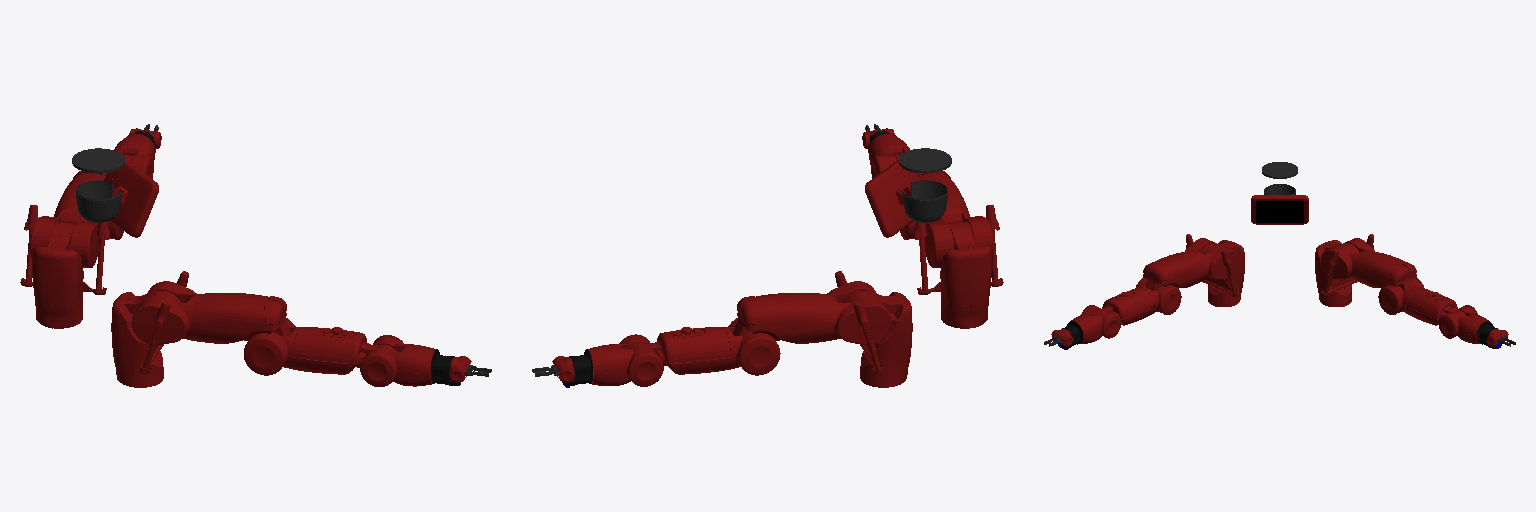
--- Render facts (derived) ---
3 views of the same robot in one strip: view 1: azimuth 30°, elevation 25°; view 2: azimuth 150°, elevation 25°; view 3: azimuth 270°, elevation 25° (orthographic).
Robot: baxter — 57 links, 56 joints (15 revolute, 4 prismatic, 37 fixed); root link base; default pose: every joint at zero.
Links seen in each view (by area): view 1: left_upper_shoulder, right_upper_elbow, right_upper_shoulder, right_upper_forearm, right_lower_forearm, right_lower_shoulder, screen, left_lower_shoulder, right_lower_elbow, head, sonar_ring, left_lower_forearm (+2 smaller); view 2: right_upper_shoulder, left_upper_elbow, left_upper_shoulder, left_upper_forearm, left_lower_forearm, left_lower_shoulder, screen, right_lower_shoulder, left_lower_elbow, head, sonar_ring, right_lower_forearm (+2 smaller); view 3: right_upper_elbow, left_upper_elbow, right_upper_shoulder, left_upper_shoulder, left_upper_forearm, right_upper_forearm, right_lower_forearm, left_lower_forearm, display, left_lower_shoulder, right_lower_shoulder, right_lower_elbow (+2 smaller).
Link boxes in pixels (box(x1,y1,x2,y2)): left_upper_shoulder: box(20, 205, 109, 328); right_upper_elbow: box(191, 293, 290, 343); right_upper_shoulder: box(111, 271, 188, 387); right_upper_forearm: box(293, 327, 396, 374); right_lower_forearm: box(360, 335, 435, 386); right_lower_shoulder: box(132, 281, 198, 344); screen: box(104, 160, 158, 237); left_lower_shoulder: box(30, 206, 99, 267); right_lower_elbow: box(244, 318, 299, 375); head: box(76, 180, 121, 222); sonar_ring: box(72, 148, 124, 173); left_lower_forearm: box(114, 134, 155, 179); right_upper_shoulder: box(914, 205, 1003, 328); left_upper_elbow: box(733, 293, 832, 343); left_upper_shoulder: box(835, 271, 912, 387); left_upper_forearm: box(627, 327, 730, 374); left_lower_forearm: box(588, 334, 663, 386); left_lower_shoulder: box(825, 281, 891, 344); screen: box(865, 160, 919, 237); right_lower_shoulder: box(924, 206, 993, 267); left_lower_elbow: box(724, 318, 780, 375); head: box(902, 180, 947, 222); sonar_ring: box(899, 148, 951, 173); right_lower_forearm: box(868, 134, 909, 178); right_upper_elbow: box(1143, 251, 1206, 290); left_upper_elbow: box(1353, 251, 1416, 290); right_upper_shoulder: box(1186, 234, 1244, 306); left_upper_shoulder: box(1315, 234, 1373, 306); left_upper_forearm: box(1406, 287, 1466, 325); right_upper_forearm: box(1091, 287, 1153, 325); right_lower_forearm: box(1071, 305, 1120, 343); left_lower_forearm: box(1438, 305, 1488, 343); display: box(1256, 201, 1303, 222); left_lower_shoulder: box(1321, 238, 1374, 280); right_lower_shoulder: box(1185, 238, 1238, 280); right_lower_elbow: box(1136, 277, 1181, 314).
Bounding box of the posed robot: 0.9298 × 2.18 × 0.6706 m (x, y, z).
Meshes: 14 distinct files referenced, 26 mesh visuals loaded (12 Collada DAE); not drawn: 2 (reference not matched to a file when rendering).

The robot description file, URDF, robot "baxter":
<?xml version="1.0" ?>
<!-- =================================================================================== -->
<!-- |    This document was autogenerated by xacro from baxter.urdf.xacro              | -->
<!-- |    EDITING THIS FILE BY HAND IS NOT RECOMMENDED                                 | -->
<!-- =================================================================================== -->
<robot name="baxter" xmlns:xacro="http://www.ros.org/wiki/xacro">
  <link name="base">
  </link>
  <link name="torso">
    <visual>
      <origin rpy="0 0 0" xyz="0 0 0"/>
      <geometry>
        <mesh filename="package://baxter_description/meshes/torso/base_link.DAE"/>
      </geometry>
      <material name="darkgray">
        <color rgba=".2 .2 .2 1"/>
      </material>
    </visual>
    <collision>
      <origin rpy="0 0 0" xyz="0 0 0"/>
      <geometry>
        <mesh filename="package://baxter_description/meshes/torso/base_link_collision.DAE"/>
      </geometry>
    </collision>
    <inertial>
      <origin rpy="0 0 0" xyz="0.000000 0.000000 0.000000"/>
      <mass value="35.336455"/>
      <inertia ixx="1.849155" ixy="-0.000354" ixz="-0.154188" iyy="1.662671" iyz="0.003292" izz="0.802239"/>
    </inertial>
  </link>
  <link name="left_torso_itb">
    <inertial>
      <origin rpy="0 0 0" xyz="0.000000 0.000000 0.000000"/>
      <mass value="0.0001"/>
      <inertia ixx="1e-08" ixy="0" ixz="0" iyy="1e-08" iyz="0" izz="1e-08"/>
    </inertial>
  </link>
  <link name="right_torso_itb">
    <inertial>
      <origin rpy="0 0 0" xyz="0.000000 0.000000 0.000000"/>
      <mass value="0.0001"/>
      <inertia ixx="1e-08" ixy="0" ixz="0" iyy="1e-08" iyz="0" izz="1e-08"/>
    </inertial>
  </link>
  <link name="head">
    <visual>
      <origin rpy="0 0 0" xyz="0 0 .00953"/>
      <geometry>
        <mesh filename="package://baxter_description/meshes/head/H0.DAE"/>
      </geometry>
      <material name="darkgray">
        <color rgba=".2 .2 .2 1"/>
      </material>
    </visual>
    <collision>
      <origin rpy="0 0 0" xyz="0.0 0 0.0"/>
      <geometry>
        <sphere radius="0.001"/>
      </geometry>
    </collision>
    <inertial>
      <origin rpy="0 0 0" xyz="0 0 0"/>
      <mass value="0.547767"/>
      <inertia ixx="0.004641" ixy="0.000159" ixz="0.000242" iyy="0.003295" iyz="-0.001324" izz="0.003415"/>
    </inertial>
  </link>
  <link name="sonar_ring">
    <visual>
      <origin rpy="0 0 0" xyz="-.0347 0 .00953"/>
      <geometry>
        <cylinder length="0.01" radius="0.085"/>
      </geometry>
      <material name="darkgray">
        <color rgba=".2 .2 .2 1"/>
      </material>
    </visual>
    <collision>
      <origin rpy="0 0 0" xyz="0.0 0 0.0"/>
      <geometry>
        <sphere radius="0.001"/>
      </geometry>
    </collision>
    <inertial>
      <origin rpy="0 0 0" xyz="0 0 0"/>
      <mass value="0.0001"/>
      <inertia ixx="1e-08" ixy="0" ixz="0" iyy="1e-08" iyz="0" izz="1e-08"/>
    </inertial>
  </link>
  <link name="screen">
    <visual>
      <origin rpy="0 -1.57079632679 0" xyz="0 -.00953 -.0347"/>
      <geometry>
        <mesh filename="package://baxter_description/meshes/head/H1.DAE"/>
      </geometry>
      <material name="darkred">
        <color rgba=".5 .1 .1 1"/>
      </material>
    </visual>
    <collision>
      <origin rpy="0 0 0" xyz="0.0 0 0.0"/>
      <geometry>
        <sphere radius="0.001"/>
      </geometry>
    </collision>
    <inertial>
      <origin rpy="0 0 0" xyz="0 0 0"/>
      <mass value="0.440171"/>
      <inertia ixx="0.004006" ixy="0.000230" ixz="0.000002" iyy="0.002800" iyz="0.000029" izz="0.001509"/>
    </inertial>
  </link>
  <link name="display">
    <visual>
      <origin rpy="0.2617993877991494 0 0" xyz="0 0 0"/>
      <geometry>
        <box size="0.218 0.16 0.001"/>
      </geometry>
      <material name="black">
        <color rgba="0 0 0 1"/>
      </material>
    </visual>
    <inertial>
      <origin rpy="0 0 0" xyz="0 0 0"/>
      <mass value="0.0001"/>
      <inertia ixx="1e-08" ixy="0" ixz="0" iyy="1e-08" iyz="0" izz="1e-08"/>
    </inertial>
  </link>
  <link name="head_camera">
    <inertial>
      <origin rpy="0 0 0" xyz="0 0 0"/>
      <mass value="0.0001"/>
      <inertia ixx="1e-08" ixy="0" ixz="0" iyy="1e-08" iyz="0" izz="1e-08"/>
    </inertial>
  </link>
  <link name="dummyhead1">
    <inertial>
      <origin rpy="0 0 0" xyz="0 0 0"/>
      <mass value="0.0001"/>
      <inertia ixx="1e-08" ixy="0" ixz="0" iyy="1e-08" iyz="0" izz="1e-08"/>
    </inertial>
  </link>
  <link name="collision_head_link_1">
    <visual>
      <origin rpy="0 0 0" xyz="0 0 0"/>
      <geometry>
        <sphere radius="0.001"/>
      </geometry>
      <material name="red">
        <color rgba="0.8 0.3 0.3 0.3"/>
      </material>
    </visual>
    <collision>
      <origin rpy="0 0 0.0" xyz="-0.07 -0.04 0.0"/>
      <geometry>
        <sphere radius="0.22"/>
      </geometry>
    </collision>
    <inertial>
      <origin rpy="0 0 0" xyz="0 0 0"/>
      <mass value="0.0001"/>
      <inertia ixx="1e-08" ixy="0" ixz="0" iyy="1e-08" iyz="0" izz="1e-08"/>
    </inertial>
  </link>
  <link name="collision_head_link_2">
    <visual>
      <origin rpy="0 0 0" xyz="0 0 0"/>
      <geometry>
        <sphere radius="0.001"/>
      </geometry>
      <material name="red">
        <color rgba="0.8 0.3 0.3 0.3"/>
      </material>
    </visual>
    <collision>
      <origin rpy="0 0 0" xyz="-0.07 0.04 0.00"/>
      <geometry>
        <sphere radius="0.22"/>
      </geometry>
    </collision>
    <inertial>
      <origin rpy="0 0 0" xyz="0 0 0"/>
      <mass value="0.0001"/>
      <inertia ixx="1e-08" ixy="0" ixz="0" iyy="1e-08" iyz="0" izz="1e-08"/>
    </inertial>
  </link>
  <joint name="collision_head_1" type="fixed">
    <origin rpy="0 0 0" xyz="0.11 0 0.75"/>
    <parent link="base"/>
    <child link="collision_head_link_1"/>
  </joint>
  <joint name="collision_head_2" type="fixed">
    <origin rpy="0 0 0" xyz="0.11 0 0.75"/>
    <parent link="base"/>
    <child link="collision_head_link_2"/>
  </joint>
  <joint name="dummy" type="fixed">
    <origin rpy="0 0 0" xyz="0 0 0"/>
    <parent link="head"/>
    <child link="dummyhead1"/>
  </joint>
  <joint name="torso_t0" type="fixed">
    <origin rpy="0 0 0" xyz="0 0 0"/>
    <parent link="base"/>
    <child link="torso"/>
    <limit effort="50000" lower="-3.01" upper="3.01" velocity="10000"/>
  </joint>
  <joint name="left_torso_itb_fixed" type="fixed">
    <origin rpy="-1.57079632679 3.1415 0" xyz="-0.08897 0.15593 0.389125"/>
    <parent link="torso"/>
    <child link="left_torso_itb"/>
  </joint>
  <joint name="right_torso_itb_fixed" type="fixed">
    <origin rpy="1.57079632679 0 0" xyz="-0.08897 -0.15593 0.389125"/>
    <parent link="torso"/>
    <child link="right_torso_itb"/>
  </joint>
  <joint name="head_pan" type="revolute">
    <origin rpy="0 0 0" xyz="0.06 0 0.686"/>
    <axis xyz="0 0 1"/>
    <parent link="torso"/>
    <child link="head"/>
    <limit effort="50000" lower="-1.3963" upper="1.3963" velocity="10000"/>
    <dynamics damping="0.7" friction="0.0"/>
  </joint>
  <joint name="head_nod" type="fixed">
    <origin rpy="1.75057 0 1.57079632679" xyz=".1227 0 0"/>
    <parent link="head"/>
    <child link="screen"/>
  </joint>
  <joint name="head_camera" type="fixed">
    <origin rpy="1.75057 0 1.57079632679" xyz="0.12839 0 0.06368"/>
    <parent link="head"/>
    <child link="head_camera"/>
  </joint>
  <joint name="display_joint" type="fixed">
    <origin rpy="0 0 0" xyz="0.0 -0.016 0.0"/>
    <parent link="screen"/>
    <child link="display"/>
  </joint>
  <joint name="sonar_s0" type="fixed">
    <origin rpy="0 0 0" xyz="0.0947 0 .817"/>
    <axis xyz="0 0 1"/>
    <parent link="torso"/>
    <child link="sonar_ring"/>
  </joint>
  <link name="right_arm_mount">
    <!-- all defaults -->
    <inertial>
      <origin rpy="0 0 0" xyz="0 0 0"/>
      <mass value="0.0001"/>
      <inertia ixx="1e-08" ixy="0" ixz="0" iyy="1e-08" iyz="0" izz="1e-08"/>
    </inertial>
  </link>
  <link name="right_upper_shoulder">
    <visual>
      <origin rpy="0 0 0" xyz="0 0 0"/>
      <geometry>
        <mesh filename="package://baxter_description/meshes/upper_shoulder/S0.DAE"/>
      </geometry>
      <material name="darkred">
        <color rgba=".5 .1 .1 1"/>
      </material>
    </visual>
    <collision>
      <origin rpy="0 0 0" xyz="0 0 0.1361"/>
      <geometry>
        <cylinder length="0.2722" radius="0.06"/>
      </geometry>
    </collision>
    <inertial>
      <origin rpy="0 0 0" xyz="0.01783 0.00086 0.19127"/>
      <mass value="5.70044"/>
      <inertia ixx="0.04709102262" ixy="0.00012787556" ixz="0.00614870039" iyy="0.03766976455" iyz="0.00078086899" izz="0.03595988478"/>
    </inertial>
  </link>
  <link name="right_lower_shoulder">
    <visual>
      <origin rpy="0 0 0" xyz="0 0 0"/>
      <geometry>
        <mesh filename="package://baxter_description/meshes/lower_shoulder/S1.DAE"/>
      </geometry>
      <material name="darkred">
        <color rgba=".5 .1 .1 1"/>
      </material>
    </visual>
    <collision>
      <origin rpy="0 0 0" xyz="0 0 0"/>
      <geometry>
        <cylinder length="0.12" radius="0.06"/>
      </geometry>
    </collision>
    <inertial>
      <origin rpy="0 0 0" xyz="0.06845 0.00269 -0.00529"/>
      <mass value="3.22698"/>
      <inertia ixx="0.01175209419" ixy="-0.00030096398" ixz="0.00207675762" iyy="0.0278859752" iyz="-0.00018821993" izz="0.02078749298"/>
    </inertial>
  </link>
  <link name="right_upper_elbow">
    <visual>
      <origin rpy="0 0 0" xyz="0 0 0"/>
      <geometry>
        <mesh filename="package://baxter_description/meshes/upper_elbow/E0.DAE"/>
      </geometry>
      <material name="darkred">
        <color rgba=".5 .1 .1 1"/>
      </material>
    </visual>
    <collision>
      <origin rpy="0 0 0" xyz="0 0 -0.0535"/>
      <geometry>
        <cylinder length="0.107" radius="0.06"/>
      </geometry>
    </collision>
    <inertial>
      <origin rpy="0 0 0" xyz="-0.00276 0.00132 0.18086"/>
      <mass value="4.31272"/>
      <inertia ixx="0.02661733557" ixy="0.00029270634" ixz="0.00392189887" iyy="0.02844355207" iyz="0.0010838933" izz="0.01248008322"/>
    </inertial>
  </link>
  <link name="right_upper_elbow_visual">
    <collision>
      <origin rpy="0 0 0" xyz="0 0 0.1365"/>
      <geometry>
        <cylinder length="0.273" radius="0.06"/>
      </geometry>
    </collision>
    <inertial>
      <origin rpy="0 0 0" xyz="0 0 0"/>
      <mass value="0.0001"/>
      <inertia ixx="1e-08" ixy="0" ixz="0" iyy="1e-08" iyz="0" izz="1e-08"/>
    </inertial>
  </link>
  <link name="right_lower_elbow">
    <visual>
      <origin rpy="0 0 0" xyz="0 0 0"/>
      <geometry>
        <mesh filename="package://baxter_description/meshes/lower_elbow/E1.DAE"/>
      </geometry>
      <material name="darkred">
        <color rgba=".5 .1 .1 1"/>
      </material>
    </visual>
    <collision>
      <origin rpy="0 0 0" xyz="0.0 0.0 0.0"/>
      <geometry>
        <cylinder length="0.10" radius="0.06"/>
      </geometry>
    </collision>
    <inertial>
      <origin rpy="0 0 0" xyz="0.02611 0.00159 -0.01117"/>
      <mass value="2.07206"/>
      <inertia ixx="0.00711582686" ixy="0.00036036173" ixz="0.0007459496" iyy="0.01318227876" iyz="-0.00019663418" izz="0.00926852064"/>
    </inertial>
  </link>
  <link name="right_upper_forearm">
    <visual>
      <origin rpy="0 0 0" xyz="0 0 0"/>
      <geometry>
        <mesh filename="package://baxter_description/meshes/upper_forearm/W0.DAE"/>
      </geometry>
      <material name="darkred">
        <color rgba=".5 .1 .1 1"/>
      </material>
    </visual>
    <collision>
      <origin rpy="0 0 0" xyz="0 0 -0.044"/>
      <geometry>
        <cylinder length="0.088" radius="0.06"/>
      </geometry>
    </collision>
    <inertial>
      <origin rpy="0 0 0" xyz="-0.00168 0.0046 0.13952"/>
      <mass value="2.24665"/>
      <inertia ixx="0.01667742825" ixy="0.00018403705" ixz="0.00018657629" iyy="0.01675457264" iyz="-0.00064732352" izz="0.0037463115"/>
    </inertial>
  </link>
  <link name="right_upper_forearm_visual">
    <collision>
      <origin rpy="0 0 0" xyz="0 0 0.136"/>
      <geometry>
        <cylinder length="0.272" radius="0.06"/>
      </geometry>
    </collision>
    <inertial>
      <origin rpy="0 0 0" xyz="0 0 0"/>
      <mass value="0.0001"/>
      <inertia ixx="1e-08" ixy="0" ixz="0" iyy="1e-08" iyz="0" izz="1e-08"/>
    </inertial>
  </link>
  <link name="right_arm_itb">
    <inertial>
      <origin rpy="0 0 0" xyz="0.000000 0.000000 0.000000"/>
      <mass value="0.0001"/>
      <inertia ixx="1e-08" ixy="0" ixz="0" iyy="1e-08" iyz="0" izz="1e-08"/>
    </inertial>
  </link>
  <link name="right_lower_forearm">
    <visual>
      <origin rpy="0 0 0" xyz="0 0 0"/>
      <geometry>
        <mesh filename="package://baxter_description/meshes/lower_forearm/W1.DAE"/>
      </geometry>
      <material name="darkred">
        <color rgba=".5 .1 .1 1"/>
      </material>
    </visual>
    <collision>
      <origin rpy="0 0 0" xyz="0 0 0"/>
      <geometry>
        <cylinder length="0.10" radius="0.06"/>
      </geometry>
    </collision>
    <inertial>
      <origin rpy="0 0 0" xyz="0.06041 0.00697 0.006"/>
      <mass value="1.60979"/>
      <inertia ixx="0.00387607152" ixy="-0.00044384784" ixz="-0.00021115038" iyy="0.00700537914" iyz="0.00015348067" izz="0.0055275524"/>
    </inertial>
  </link>
  <link name="right_wrist">
    <visual>
      <origin rpy="0 0 0" xyz="0 0 0"/>
      <geometry>
        <mesh filename="package://baxter_description/meshes/wrist/W2.DAE"/>
      </geometry>
      <material name="lightgrey">
        <color rgba=".1 .1 .1 1"/>
      </material>
    </visual>
    <collision>
      <origin rpy="0 0 0" xyz="0 0 0"/>
      <geometry>
        <cylinder length="0.165" radius="0.06"/>
      </geometry>
    </collision>
    <inertial>
      <origin rpy="0 0 0" xyz="0.00198 0.00125 0.01855"/>
      <mass value="0.35093"/>
      <inertia ixx="0.00025289155" ixy="0.00000575311" ixz="-0.00000159345" iyy="0.0002688601" iyz="-0.00000519818" izz="0.0003074118"/>
    </inertial>
  </link>
  <link name="right_hand">
    <collision>
      <origin rpy="0 0 0" xyz="0 0 -0.0232"/>
      <geometry>
        <cylinder length="0.0464" radius="0.04"/>
      </geometry>
    </collision>
    <inertial>
      <origin rpy="0 0 0" xyz="0.01093 0.00042 -0.01532"/>
      <mass value="0.19125"/>
      <inertia ixx="0.00017588" ixy="0.00000147073" ixz="0.0000243633" iyy="0.00021166377" iyz="0.00000172689" izz="0.00023745397"/>
    </inertial>
  </link>
  <link name="right_hand_camera">
    <visual>
      <origin rpy="0 0 0" xyz="0 0 0"/>
      <geometry>
        <cylinder length="0.01" radius="0.02"/>
      </geometry>
      <material name="blue">
        <color rgba="0 0 1 0.8"/>
      </material>
    </visual>
    <inertial>
      <origin rpy="0 0 0" xyz="0 0 0"/>
      <mass value="0.0001"/>
      <inertia ixx="1e-08" ixy="0" ixz="0" iyy="1e-08" iyz="0" izz="1e-08"/>
    </inertial>
  </link>
  <link name="right_hand_camera_axis">
    <inertial>
      <origin rpy="0 0 0" xyz="0 0 0"/>
      <mass value="0.0001"/>
      <inertia ixx="1e-08" ixy="0" ixz="0" iyy="1e-08" iyz="0" izz="1e-08"/>
    </inertial>
  </link>
  <link name="right_hand_range">
    <visual>
      <origin rpy="0 0 0" xyz="0 0 0"/>
      <geometry>
        <box size="0.005 .02 .005"/>
      </geometry>
      <material name="blue">
        <color rgba="0 0 1 0.8"/>
      </material>
    </visual>
    <inertial>
      <origin rpy="0 0 0" xyz="0 0 0"/>
      <mass value="0.0001"/>
      <inertia ixx="1e-08" ixy="0" ixz="0" iyy="1e-08" iyz="0" izz="1e-08"/>
    </inertial>
  </link>
  <link name="right_hand_accelerometer">
    <visual>
      <origin rpy="0 0 0" xyz="0 0 0"/>
      <geometry>
        <box size="0.01 0.01 0.01"/>
      </geometry>
      <material name="black">
        <color rgba="0 0 0 1"/>
      </material>
    </visual>
    <inertial>
      <origin rpy="0 0 0" xyz="0.000000 0.000000 0.000000"/>
      <mass value="0.0001"/>
      <inertia ixx="1e-08" ixy="0" ixz="0" iyy="1e-08" iyz="0" izz="1e-08"/>
    </inertial>
  </link>
  <joint name="right_torso_arm_mount" type="fixed">
    <origin rpy="0 0 -0.7854" xyz="0.024645 -0.219645 0.118588"/>
    <parent link="torso"/>
    <child link="right_arm_mount"/>
  </joint>
  <joint name="right_s0" type="revolute">
    <origin rpy="0 0 0" xyz="0.055695 0 0.011038"/>
    <axis xyz="0 0 1"/>
    <parent link="right_arm_mount"/>
    <child link="right_upper_shoulder"/>
    <limit effort="50.0" lower="-1.70167993878" upper="1.70167993878" velocity="1.5"/>
    <dynamics damping="0.7" friction="0.0"/>
  </joint>
  <joint name="right_s1" type="revolute">
    <origin rpy="-1.57079632679 0 0" xyz="0.069 0 0.27035"/>
    <axis xyz="0 0 1"/>
    <parent link="right_upper_shoulder"/>
    <child link="right_lower_shoulder"/>
    <limit effort="50.0" lower="-2.147" upper="1.047" velocity="1.5"/>
    <dynamics damping="0.7" friction="0.0"/>
  </joint>
  <joint name="right_e0" type="revolute">
    <origin rpy="1.57079632679 0 1.57079632679" xyz="0.102 0 0"/>
    <axis xyz="0 0 1"/>
    <parent link="right_lower_shoulder"/>
    <child link="right_upper_elbow"/>
    <limit effort="50.0" lower="-3.05417993878" upper="3.05417993878" velocity="1.5"/>
    <dynamics damping="0.7" friction="0.0"/>
  </joint>
  <joint name="right_e0_fixed" type="fixed">
    <origin rpy="1.57079632679 0 1.57079632679" xyz="0.107 0 0"/>
    <axis xyz="0 0 1"/>
    <parent link="right_lower_shoulder"/>
    <child link="right_upper_elbow_visual"/>
  </joint>
  <joint name="right_e1" type="revolute">
    <origin rpy="-1.57079632679 -1.57079632679 0" xyz="0.069 0 0.26242"/>
    <axis xyz="0 0 1"/>
    <parent link="right_upper_elbow"/>
    <child link="right_lower_elbow"/>
    <limit effort="50.0" lower="-0.05" upper="2.618" velocity="1.5"/>
    <dynamics damping="0.7" friction="0.0"/>
  </joint>
  <joint name="right_w0" type="revolute">
    <origin rpy="1.57079632679 0 1.57079632679" xyz="0.10359 0 0"/>
    <axis xyz="0 0 1"/>
    <parent link="right_lower_elbow"/>
    <child link="right_upper_forearm"/>
    <limit effort="15.0" lower="-3.059" upper="3.059" velocity="4.0"/>
    <dynamics damping="0.7" friction="0.0"/>
  </joint>
  <joint name="right_w0_fixed" type="fixed">
    <origin rpy="1.57079632679 0 1.57079632679" xyz="0.088 0 0"/>
    <axis xyz="0 0 1"/>
    <parent link="right_lower_elbow"/>
    <child link="right_upper_forearm_visual"/>
  </joint>
  <joint name="right_w0_to_itb_fixed" type="fixed">
    <origin rpy="-1.57079632679 0 1.57079632679" xyz="-0.0565 0 0.12"/>
    <axis xyz="0 0 1"/>
    <parent link="right_upper_forearm"/>
    <child link="right_arm_itb"/>
  </joint>
  <joint name="right_w1" type="revolute">
    <origin rpy="-1.57079632679 -1.57079632679 0" xyz="0.01 0 0.2707"/>
    <axis xyz="0 0 1"/>
    <parent link="right_upper_forearm"/>
    <child link="right_lower_forearm"/>
    <limit effort="15.0" lower="-1.57079632679" upper="2.094" velocity="4.0"/>
    <dynamics damping="0.7" friction="0.0"/>
  </joint>
  <joint name="right_w2" type="revolute">
    <origin rpy="1.57079632679 0 1.57079632679" xyz="0.115975 0 0"/>
    <axis xyz="0 0 1"/>
    <parent link="right_lower_forearm"/>
    <child link="right_wrist"/>
    <limit effort="15.0" lower="-3.059" upper="3.059" velocity="4.0"/>
    <dynamics damping="0.7" friction="0.0"/>
  </joint>
  <joint name="right_hand" type="fixed">
    <origin rpy="0 0 0" xyz="0 0 0.11355"/>
    <axis xyz="0 0 1"/>
    <parent link="right_wrist"/>
    <child link="right_hand"/>
  </joint>
  <joint name="right_hand_camera" type="fixed">
    <origin rpy="0 0 -1.57079633" xyz="0.03825 0.012 0.015355"/>
    <parent link="right_hand"/>
    <child link="right_hand_camera"/>
  </joint>
  <joint name="right_hand_camera_axis" type="fixed">
    <origin rpy="0 0 0" xyz="0.03825 0.012 0.015355"/>
    <parent link="right_hand"/>
    <child link="right_hand_camera_axis"/>
  </joint>
  <joint name="right_hand_range" type="fixed">
    <origin rpy="0 -1.57079632679 -1.57079632679" xyz="0.032 -0.020245 0.0288"/>
    <parent link="right_hand"/>
    <child link="right_hand_range"/>
  </joint>
  <joint name="right_hand_accelerometer" type="fixed">
    <origin rpy="0 0 0" xyz="0.00198 0.000133 -0.0146"/>
    <parent link="right_hand"/>
    <child link="right_hand_accelerometer"/>
  </joint>
  <link name="left_arm_mount">
    <!-- all defaults -->
    <inertial>
      <origin rpy="0 0 0" xyz="0 0 0"/>
      <mass value="0.0001"/>
      <inertia ixx="1e-08" ixy="0" ixz="0" iyy="1e-08" iyz="0" izz="1e-08"/>
    </inertial>
  </link>
  <link name="left_upper_shoulder">
    <visual>
      <origin rpy="0 0 0" xyz="0 0 0"/>
      <geometry>
        <mesh filename="package://baxter_description/meshes/upper_shoulder/S0.DAE"/>
      </geometry>
      <material name="darkred">
        <color rgba=".5 .1 .1 1"/>
      </material>
    </visual>
    <collision>
      <origin rpy="0 0 0" xyz="0 0 0.1361"/>
      <geometry>
        <cylinder length="0.2722" radius="0.06"/>
      </geometry>
    </collision>
    <inertial>
      <origin rpy="0 0 0" xyz="0.01783 0.00086 0.19127"/>
      <mass value="5.70044"/>
      <inertia ixx="0.04709102262" ixy="0.00012787556" ixz="0.00614870039" iyy="0.03766976455" iyz="0.00078086899" izz="0.03595988478"/>
    </inertial>
  </link>
  <link name="left_lower_shoulder">
    <visual>
      <origin rpy="0 0 0" xyz="0 0 0"/>
      <geometry>
        <mesh filename="package://baxter_description/meshes/lower_shoulder/S1.DAE"/>
      </geometry>
      <material name="darkred">
        <color rgba=".5 .1 .1 1"/>
      </material>
    </visual>
    <collision>
      <origin rpy="0 0 0" xyz="0 0 0"/>
      <geometry>
        <cylinder length="0.12" radius="0.06"/>
      </geometry>
    </collision>
    <inertial>
      <origin rpy="0 0 0" xyz="0.06845 0.00269 -0.00529"/>
      <mass value="3.22698"/>
      <inertia ixx="0.01175209419" ixy="-0.00030096398" ixz="0.00207675762" iyy="0.0278859752" iyz="-0.00018821993" izz="0.02078749298"/>
    </inertial>
  </link>
  <link name="left_upper_elbow">
    <visual>
      <origin rpy="0 0 0" xyz="0 0 0"/>
      <geometry>
        <mesh filename="package://baxter_description/meshes/upper_elbow/E0.DAE"/>
      </geometry>
      <material name="darkred">
        <color rgba=".5 .1 .1 1"/>
      </material>
    </visual>
    <collision>
      <origin rpy="0 0 0" xyz="0 0 -0.0535"/>
      <geometry>
        <cylinder length="0.107" radius="0.06"/>
      </geometry>
    </collision>
    <inertial>
      <origin rpy="0 0 0" xyz="-0.00276 0.00132 0.18086"/>
      <mass value="4.31272"/>
      <inertia ixx="0.02661733557" ixy="0.00029270634" ixz="0.00392189887" iyy="0.02844355207" iyz="0.0010838933" izz="0.01248008322"/>
    </inertial>
  </link>
  <link name="left_upper_elbow_visual">
    <collision>
      <origin rpy="0 0 0" xyz="0 0 0.1365"/>
      <geometry>
        <cylinder length="0.273" radius="0.06"/>
      </geometry>
    </collision>
    <inertial>
      <origin rpy="0 0 0" xyz="0 0 0"/>
      <mass value="0.0001"/>
      <inertia ixx="1e-08" ixy="0" ixz="0" iyy="1e-08" iyz="0" izz="1e-08"/>
    </inertial>
  </link>
  <link name="left_lower_elbow">
    <visual>
      <origin rpy="0 0 0" xyz="0 0 0"/>
      <geometry>
        <mesh filename="package://baxter_description/meshes/lower_elbow/E1.DAE"/>
      </geometry>
      <material name="darkred">
        <color rgba=".5 .1 .1 1"/>
      </material>
    </visual>
    <collision>
      <origin rpy="0 0 0" xyz="0.0 0.0 0.0"/>
      <geometry>
        <cylinder length="0.10" radius="0.06"/>
      </geometry>
    </collision>
    <inertial>
      <origin rpy="0 0 0" xyz="0.02611 0.00159 -0.01117"/>
      <mass value="2.07206"/>
      <inertia ixx="0.00711582686" ixy="0.00036036173" ixz="0.0007459496" iyy="0.01318227876" iyz="-0.00019663418" izz="0.00926852064"/>
    </inertial>
  </link>
  <link name="left_upper_forearm">
    <visual>
      <origin rpy="0 0 0" xyz="0 0 0"/>
      <geometry>
        <mesh filename="package://baxter_description/meshes/upper_forearm/W0.DAE"/>
      </geometry>
      <material name="darkred">
        <color rgba=".5 .1 .1 1"/>
      </material>
    </visual>
    <collision>
      <origin rpy="0 0 0" xyz="0 0 -0.044"/>
      <geometry>
        <cylinder length="0.088" radius="0.06"/>
      </geometry>
    </collision>
    <inertial>
      <origin rpy="0 0 0" xyz="-0.00168 0.0046 0.13952"/>
      <mass value="2.24665"/>
      <inertia ixx="0.01667742825" ixy="0.00018403705" ixz="0.00018657629" iyy="0.01675457264" iyz="-0.00064732352" izz="0.0037463115"/>
    </inertial>
  </link>
  <link name="left_upper_forearm_visual">
    <collision>
      <origin rpy="0 0 0" xyz="0 0 0.136"/>
      <geometry>
        <cylinder length="0.272" radius="0.06"/>
      </geometry>
    </collision>
    <inertial>
      <origin rpy="0 0 0" xyz="0 0 0"/>
      <mass value="0.0001"/>
      <inertia ixx="1e-08" ixy="0" ixz="0" iyy="1e-08" iyz="0" izz="1e-08"/>
    </inertial>
  </link>
  <link name="left_arm_itb">
    <inertial>
      <origin rpy="0 0 0" xyz="0.000000 0.000000 0.000000"/>
      <mass value="0.0001"/>
      <inertia ixx="1e-08" ixy="0" ixz="0" iyy="1e-08" iyz="0" izz="1e-08"/>
    </inertial>
  </link>
  <link name="left_lower_forearm">
    <visual>
      <origin rpy="0 0 0" xyz="0 0 0"/>
      <geometry>
        <mesh filename="package://baxter_description/meshes/lower_forearm/W1.DAE"/>
      </geometry>
      <material name="darkred">
        <color rgba=".5 .1 .1 1"/>
      </material>
    </visual>
    <collision>
      <origin rpy="0 0 0" xyz="0 0 0"/>
      <geometry>
        <cylinder length="0.10" radius="0.06"/>
      </geometry>
    </collision>
    <inertial>
      <origin rpy="0 0 0" xyz="0.06041 0.00697 0.006"/>
      <mass value="1.60979"/>
      <inertia ixx="0.00387607152" ixy="-0.00044384784" ixz="-0.00021115038" iyy="0.00700537914" iyz="0.00015348067" izz="0.0055275524"/>
    </inertial>
  </link>
  <link name="left_wrist">
    <visual>
      <origin rpy="0 0 0" xyz="0 0 0"/>
      <geometry>
        <mesh filename="package://baxter_description/meshes/wrist/W2.DAE"/>
      </geometry>
      <material name="lightgrey">
        <color rgba=".1 .1 .1 1"/>
      </material>
    </visual>
    <collision>
      <origin rpy="0 0 0" xyz="0 0 0"/>
      <geometry>
        <cylinder length="0.165" radius="0.06"/>
      </geometry>
    </collision>
    <inertial>
      <origin rpy="0 0 0" xyz="0.00198 0.00125 0.01855"/>
      <mass value="0.35093"/>
      <inertia ixx="0.00025289155" ixy="0.00000575311" ixz="-0.00000159345" iyy="0.0002688601" iyz="-0.00000519818" izz="0.0003074118"/>
    </inertial>
  </link>
  <link name="left_hand">
    <collision>
      <origin rpy="0 0 0" xyz="0 0 -0.0232"/>
      <geometry>
        <cylinder length="0.0464" radius="0.04"/>
      </geometry>
    </collision>
    <inertial>
      <origin rpy="0 0 0" xyz="0.01093 0.00042 -0.01532"/>
      <mass value="0.19125"/>
      <inertia ixx="0.00017588" ixy="0.00000147073" ixz="0.0000243633" iyy="0.00021166377" iyz="0.00000172689" izz="0.00023745397"/>
    </inertial>
  </link>
  <link name="left_hand_camera">
    <visual>
      <origin rpy="0 0 0" xyz="0 0 0"/>
      <geometry>
        <cylinder length="0.01" radius="0.02"/>
      </geometry>
      <material name="blue">
        <color rgba="0 0 1 0.8"/>
      </material>
    </visual>
    <inertial>
      <origin rpy="0 0 0" xyz="0 0 0"/>
      <mass value="0.0001"/>
      <inertia ixx="1e-08" ixy="0" ixz="0" iyy="1e-08" iyz="0" izz="1e-08"/>
    </inertial>
  </link>
  <link name="left_hand_camera_axis">
    <inertial>
      <origin rpy="0 0 0" xyz="0 0 0"/>
      <mass value="0.0001"/>
      <inertia ixx="1e-08" ixy="0" ixz="0" iyy="1e-08" iyz="0" izz="1e-08"/>
    </inertial>
  </link>
  <link name="left_hand_range">
    <visual>
      <origin rpy="0 0 0" xyz="0 0 0"/>
      <geometry>
        <box size="0.005 .02 .005"/>
      </geometry>
      <material name="blue">
        <color rgba="0 0 1 0.8"/>
      </material>
    </visual>
    <inertial>
      <origin rpy="0 0 0" xyz="0 0 0"/>
      <mass value="0.0001"/>
      <inertia ixx="1e-08" ixy="0" ixz="0" iyy="1e-08" iyz="0" izz="1e-08"/>
    </inertial>
  </link>
  <link name="left_hand_accelerometer">
    <visual>
      <origin rpy="0 0 0" xyz="0 0 0"/>
      <geometry>
        <box size="0.01 0.01 0.01"/>
      </geometry>
      <material name="black">
        <color rgba="0 0 0 1"/>
      </material>
    </visual>
    <inertial>
      <origin rpy="0 0 0" xyz="0.000000 0.000000 0.000000"/>
      <mass value="0.0001"/>
      <inertia ixx="1e-08" ixy="0" ixz="0" iyy="1e-08" iyz="0" izz="1e-08"/>
    </inertial>
  </link>
  <joint name="left_torso_arm_mount" type="fixed">
    <origin rpy="0 0 0.7854" xyz="0.024645 0.219645 0.118588"/>
    <parent link="torso"/>
    <child link="left_arm_mount"/>
  </joint>
  <joint name="left_s0" type="revolute">
    <origin rpy="0 0 0" xyz="0.055695 0 0.011038"/>
    <axis xyz="0 0 1"/>
    <parent link="left_arm_mount"/>
    <child link="left_upper_shoulder"/>
    <limit effort="50.0" lower="-1.70167993878" upper="1.70167993878" velocity="1.5"/>
    <dynamics damping="0.7" friction="0.0"/>
  </joint>
  <joint name="left_s1" type="revolute">
    <origin rpy="-1.57079632679 0 0" xyz="0.069 0 0.27035"/>
    <axis xyz="0 0 1"/>
    <parent link="left_upper_shoulder"/>
    <child link="left_lower_shoulder"/>
    <limit effort="50.0" lower="-2.147" upper="1.047" velocity="1.5"/>
    <dynamics damping="0.7" friction="0.0"/>
  </joint>
  <joint name="left_e0" type="revolute">
    <origin rpy="1.57079632679 0 1.57079632679" xyz="0.102 0 0"/>
    <axis xyz="0 0 1"/>
    <parent link="left_lower_shoulder"/>
    <child link="left_upper_elbow"/>
    <limit effort="50.0" lower="-3.05417993878" upper="3.05417993878" velocity="1.5"/>
    <dynamics damping="0.7" friction="0.0"/>
  </joint>
  <joint name="left_e0_fixed" type="fixed">
    <origin rpy="1.57079632679 0 1.57079632679" xyz="0.107 0 0"/>
    <axis xyz="0 0 1"/>
    <parent link="left_lower_shoulder"/>
    <child link="left_upper_elbow_visual"/>
  </joint>
  <joint name="left_e1" type="revolute">
    <origin rpy="-1.57079632679 -1.57079632679 0" xyz="0.069 0 0.26242"/>
    <axis xyz="0 0 1"/>
    <parent link="left_upper_elbow"/>
    <child link="left_lower_elbow"/>
    <limit effort="50.0" lower="-0.05" upper="2.618" velocity="1.5"/>
    <dynamics damping="0.7" friction="0.0"/>
  </joint>
  <joint name="left_w0" type="revolute">
    <origin rpy="1.57079632679 0 1.57079632679" xyz="0.10359 0 0"/>
    <axis xyz="0 0 1"/>
    <parent link="left_lower_elbow"/>
    <child link="left_upper_forearm"/>
    <limit effort="15.0" lower="-3.059" upper="3.059" velocity="4.0"/>
    <dynamics damping="0.7" friction="0.0"/>
  </joint>
  <joint name="left_w0_fixed" type="fixed">
    <origin rpy="1.57079632679 0 1.57079632679" xyz="0.088 0 0"/>
    <axis xyz="0 0 1"/>
    <parent link="left_lower_elbow"/>
    <child link="left_upper_forearm_visual"/>
  </joint>
  <joint name="left_w0_to_itb_fixed" type="fixed">
    <origin rpy="-1.57079632679 0 1.57079632679" xyz="-0.0565 0 0.12"/>
    <axis xyz="0 0 1"/>
    <parent link="left_upper_forearm"/>
    <child link="left_arm_itb"/>
  </joint>
  <joint name="left_w1" type="revolute">
    <origin rpy="-1.57079632679 -1.57079632679 0" xyz="0.01 0 0.2707"/>
    <axis xyz="0 0 1"/>
    <parent link="left_upper_forearm"/>
    <child link="left_lower_forearm"/>
    <limit effort="15.0" lower="-1.57079632679" upper="2.094" velocity="4.0"/>
    <dynamics damping="0.7" friction="0.0"/>
  </joint>
  <joint name="left_w2" type="revolute">
    <origin rpy="1.57079632679 0 1.57079632679" xyz="0.115975 0 0"/>
    <axis xyz="0 0 1"/>
    <parent link="left_lower_forearm"/>
    <child link="left_wrist"/>
    <limit effort="15.0" lower="-3.059" upper="3.059" velocity="4.0"/>
    <dynamics damping="0.7" friction="0.0"/>
  </joint>
  <joint name="left_hand" type="fixed">
    <origin rpy="0 0 0" xyz="0 0 0.11355"/>
    <axis xyz="0 0 1"/>
    <parent link="left_wrist"/>
    <child link="left_hand"/>
  </joint>
  <joint name="left_hand_camera" type="fixed">
    <origin rpy="0 0 -1.57079633" xyz="0.03825 0.012 0.015355"/>
    <parent link="left_hand"/>
    <child link="left_hand_camera"/>
  </joint>
  <joint name="left_hand_camera_axis" type="fixed">
    <origin rpy="0 0 0" xyz="0.03825 0.012 0.015355"/>
    <parent link="left_hand"/>
    <child link="left_hand_camera_axis"/>
  </joint>
  <joint name="left_hand_range" type="fixed">
    <origin rpy="0 -1.57079632679 -1.57079632679" xyz="0.032 -0.020245 0.0288"/>
    <parent link="left_hand"/>
    <child link="left_hand_range"/>
  </joint>
  <joint name="left_hand_accelerometer" type="fixed">
    <origin rpy="0 0 0" xyz="0.00198 0.000133 -0.0146"/>
    <parent link="left_hand"/>
    <child link="left_hand_accelerometer"/>
  </joint>
  <link name="pedestal">
    <visual>
      <origin rpy="0 0 0" xyz="0 0 0"/>
      <geometry>
        <mesh filename="package://baxter_description/meshes/base/PEDESTAL.DAE"/>
      </geometry>
      <material name="darkgray">
        <color rgba=".2 .2 .2 1"/>
      </material>
    </visual>
    <collision>
      <origin rpy="0 0 0" xyz="0 0 0"/>
      <geometry>
        <mesh filename="package://baxter_description/meshes/base/pedestal_link_collision.DAE"/>
      </geometry>
    </collision>
    <inertial>
      <origin rpy="0 0 0" xyz="0 0 0"/>
      <mass value="60.86397744"/>
      <inertia ixx="5.0635929" ixy="0.00103417" ixz="0.80199628" iyy="6.08689388" iyz="0.00105311" izz="4.96191932"/>
    </inertial>
  </link>
  <joint name="pedestal_fixed" type="fixed">
    <origin rpy="0 0 0" xyz="0.0 0.0 0.0"/>
    <parent link="torso"/>
    <child link="pedestal"/>
  </joint>
  <!-- Base of end effector -->
  <link name="left_gripper_base">
    <visual>
      <origin rpy="-1.57079632679 3.14159265359 0" xyz="0 0 0"/>
      <geometry>
        <mesh filename="package://rethink_ee_description/meshes/electric_gripper/electric_gripper_base.DAE"/>
      </geometry>
      <material name="darkred">
        <color rgba=".5 .1 .1 1"/>
      </material>
    </visual>
    <collision>
      <origin rpy="-1.57079632679 3.14159265359 0" xyz="0.0 0.0 0"/>
      <geometry>
        <cylinder length="0.1" radius="0.029"/>
      </geometry>
    </collision>
    <inertial>
      <origin rpy="-1.57079632679 3.14159265359 0" xyz="0.0 0.0 0.0"/>
      <mass value="0.3"/>
      <inertia ixx="2e-08" ixy="0" ixz="0" iyy="3e-08" iyz="0" izz="2e-08"/>
    </inertial>
  </link>
  <link name="l_gripper_l_finger">
    <visual>
      <origin rpy="0 0 -3.14159265359" xyz="0 0 0"/>
      <geometry>
        <mesh filename="package://rethink_ee_description/meshes/electric_gripper/fingers/standard_narrow.DAE"/>
      </geometry>
      <material name="darkgray">
        <color rgba=".2 .2 .2 1"/>
      </material>
    </visual>
    <collision>
      <origin rpy="0 0 -3.14159265359" xyz="0 0.01725 0.04"/>
      <geometry>
        <box size="0.01 0.0135 0.075"/>
      </geometry>
    </collision>
    <collision>
      <origin rpy="0 0 -3.14159265359" xyz="-0.005 -0.003 0.0083"/>
      <geometry>
        <box size="0.01 0.05 0.017"/>
      </geometry>
    </collision>
    <inertial>
      <origin rpy="0 0 -3.14159265359" xyz="0 0 0"/>
      <mass value="0.02"/>
      <inertia ixx="0.01" ixy="0" ixz="0" iyy="0.01" iyz="0" izz="0.01"/>
    </inertial>
  </link>
  <gazebo reference="l_gripper_l_finger">
    <mu1>1000</mu1>
    <mu2>1000</mu2>
    <fdir1>0.0 0.0 1.0</fdir1>
    <kp>1e5</kp>
    <kd>1.0</kd>
  </gazebo>
  <link name="l_gripper_l_finger_tip">
    <visual>
      <origin rpy="0 0 3.14159265359" xyz="0 0 0"/>
      <geometry>
        <mesh filename="package://rethink_ee_description/meshes/electric_gripper/fingers/basic_hard_tip.DAE"/>
      </geometry>
      <material name="darkgray">
        <color rgba=".2 .2 .2 1"/>
      </material>
    </visual>
    <collision>
      <origin rpy="0 0 3.14159265359" xyz="0 -0.0045 -0.015"/>
      <geometry>
        <box size="0.016 0.0065 0.037"/>
      </geometry>
    </collision>
    <inertial>
      <origin rpy="0 0 3.14159265359" xyz="0 0 0"/>
      <mass value="0.01"/>
      <inertia ixx="0.01" ixy="0" ixz="0" iyy="0.01" iyz="0" izz="0.01"/>
    </inertial>
  </link>
  <joint name="l_gripper_l_finger_tip_joint" type="fixed">
    <origin rpy="0 0 0" xyz="0.0 0.01725 0.075"/>
    <parent link="l_gripper_l_finger"/>
    <child link="l_gripper_l_finger_tip"/>
  </joint>
  <link name="l_gripper_r_finger">
    <visual>
      <origin rpy="0 0 -0.0" xyz="0 0 0"/>
      <geometry>
        <mesh filename="package://rethink_ee_description/meshes/electric_gripper/fingers/standard_narrow.DAE"/>
      </geometry>
      <material name="darkgray">
        <color rgba=".2 .2 .2 1"/>
      </material>
    </visual>
    <collision>
      <origin rpy="0 0 -0.0" xyz="0 -0.01725 0.04"/>
      <geometry>
        <box size="0.01 0.0135 0.075"/>
      </geometry>
    </collision>
    <collision>
      <origin rpy="0 0 -0.0" xyz="0.005 0.003 0.0083"/>
      <geometry>
        <box size="0.01 0.05 0.017"/>
      </geometry>
    </collision>
    <inertial>
      <origin rpy="0 0 -0.0" xyz="0 0 0"/>
      <mass value="0.02"/>
      <inertia ixx="0.01" ixy="0" ixz="0" iyy="0.01" iyz="0" izz="0.01"/>
    </inertial>
  </link>
  <gazebo reference="l_gripper_r_finger">
    <mu1>1000</mu1>
    <mu2>1000</mu2>
    <fdir1>0.0 0.0 1.0</fdir1>
    <kp>1e5</kp>
    <kd>1.0</kd>
  </gazebo>
  <link name="l_gripper_r_finger_tip">
    <visual>
      <origin rpy="0 0 0.0" xyz="0 0 0"/>
      <geometry>
        <mesh filename="package://rethink_ee_description/meshes/electric_gripper/fingers/basic_hard_tip.DAE"/>
      </geometry>
      <material name="darkgray">
        <color rgba=".2 .2 .2 1"/>
      </material>
    </visual>
    <collision>
      <origin rpy="0 0 0.0" xyz="0 0.0045 -0.015"/>
      <geometry>
        <box size="0.016 0.0065 0.037"/>
      </geometry>
    </collision>
    <inertial>
      <origin rpy="0 0 0.0" xyz="0 0 0"/>
      <mass value="0.01"/>
      <inertia ixx="0.01" ixy="0" ixz="0" iyy="0.01" iyz="0" izz="0.01"/>
    </inertial>
  </link>
  <joint name="l_gripper_r_finger_tip_joint" type="fixed">
    <origin rpy="0 0 0" xyz="0.0 -0.01725 0.075"/>
    <parent link="l_gripper_r_finger"/>
    <child link="l_gripper_r_finger_tip"/>
  </joint>
  <!-- Electric Gripper Base Joint -->
  <joint name="left_gripper_base" type="fixed">
    <origin rpy="0 0 0" xyz="0 0 0.025"/>
    <parent link="left_hand"/>
    <child link="left_gripper_base"/>
  </joint>
  <!-- Electric Gripper Tip joint -->
  <joint name="left_endpoint" type="fixed">
    <origin rpy="0 0 0" xyz="0 0 0.095"/>
    <parent link="left_gripper_base"/>
    <child link="left_gripper"/>
  </joint>
  <!-- Electric Gripper Tip link -->
  <link name="left_gripper">
    <inertial>
      <origin rpy="0 0 0" xyz="0 0 0"/>
      <mass value="0.0001"/>
      <inertia ixx="0" ixy="0" ixz="0" iyy="0" iyz="0" izz="0.0"/>
    </inertial>
  </link>
  <joint name="l_gripper_l_finger_joint" type="prismatic">
    <origin rpy="0 0 0" xyz="0.0 0.0 0.02"/>
    <axis xyz="0 1 0"/>
    <parent link="left_gripper_base"/>
    <child link="l_gripper_l_finger"/>
    <limit effort="20.0" lower="0.0" upper="0.020833" velocity="5.0"/>
    <dynamics damping="0.7" friction="0.0"/>
  </joint>
  <joint name="l_gripper_r_finger_joint" type="prismatic">
    <origin rpy="0 0 0" xyz="0.0 0.0 0.02"/>
    <axis xyz="0 1 0"/>
    <parent link="left_gripper_base"/>
    <child link="l_gripper_r_finger"/>
    <limit effort="20.0" lower="-0.020833" upper="0.0" velocity="5.0"/>
    <mimic joint="l_gripper_l_finger_joint" multiplier="-1.0"/>
    <dynamics damping="0.7" friction="0.0"/>
  </joint>
  <transmission name="gripper_left1">
    <type>transmission_interface/SimpleTransmission</type>
    <joint name="l_gripper_r_finger_joint">
      <hardwareInterface>hardware_interface/EffortJointInterface</hardwareInterface>
    </joint>
    <actuator name="gripper_l1_motor1">
      <hardwareInterface>hardware_interface/EffortJointInterface</hardwareInterface>
      <mechanicalReduction>1</mechanicalReduction>
    </actuator>
  </transmission>
  <transmission name="gripper_left2">
    <type>transmission_interface/SimpleTransmission</type>
    <joint name="l_gripper_l_finger_joint">
      <hardwareInterface>hardware_interface/EffortJointInterface</hardwareInterface>
    </joint>
    <actuator name="gripper_l1_motor2">
      <hardwareInterface>hardware_interface/EffortJointInterface</hardwareInterface>
      <mechanicalReduction>1</mechanicalReduction>
    </actuator>
  </transmission>
  <gazebo reference="l_gripper_r_finger_joint">
    <implicitSpringDamper>1</implicitSpringDamper>
  </gazebo>
  <gazebo reference="l_gripper_l_finger_joint">
    <implicitSpringDamper>1</implicitSpringDamper>
  </gazebo>
  <!-- Base of end effector -->
  <link name="right_gripper_base">
    <visual>
      <origin rpy="-1.57079632679 3.14159265359 0" xyz="0 0 0"/>
      <geometry>
        <mesh filename="package://rethink_ee_description/meshes/electric_gripper/electric_gripper_base.DAE"/>
      </geometry>
      <material name="darkred">
        <color rgba=".5 .1 .1 1"/>
      </material>
    </visual>
    <collision>
      <origin rpy="-1.57079632679 3.14159265359 0" xyz="0.0 0.0 0"/>
      <geometry>
        <cylinder length="0.1" radius="0.029"/>
      </geometry>
    </collision>
    <inertial>
      <origin rpy="-1.57079632679 3.14159265359 0" xyz="0.0 0.0 0.0"/>
      <mass value="0.3"/>
      <inertia ixx="2e-08" ixy="0" ixz="0" iyy="3e-08" iyz="0" izz="2e-08"/>
    </inertial>
  </link>
  <link name="r_gripper_l_finger">
    <visual>
      <origin rpy="0 0 -3.14159265359" xyz="0 0 0"/>
      <geometry>
        <mesh filename="package://rethink_ee_description/meshes/electric_gripper/fingers/standard_narrow.DAE"/>
      </geometry>
      <material name="darkgray">
        <color rgba=".2 .2 .2 1"/>
      </material>
    </visual>
    <collision>
      <origin rpy="0 0 -3.14159265359" xyz="0 0.01725 0.04"/>
      <geometry>
        <box size="0.01 0.0135 0.075"/>
      </geometry>
    </collision>
    <collision>
      <origin rpy="0 0 -3.14159265359" xyz="-0.005 -0.003 0.0083"/>
      <geometry>
        <box size="0.01 0.05 0.017"/>
      </geometry>
    </collision>
    <inertial>
      <origin rpy="0 0 -3.14159265359" xyz="0 0 0"/>
      <mass value="0.02"/>
      <inertia ixx="0.01" ixy="0" ixz="0" iyy="0.01" iyz="0" izz="0.01"/>
    </inertial>
  </link>
  <gazebo reference="r_gripper_l_finger">
    <mu1>1000</mu1>
    <mu2>1000</mu2>
    <fdir1>0.0 0.0 1.0</fdir1>
    <kp>1e5</kp>
    <kd>1.0</kd>
  </gazebo>
  <link name="r_gripper_l_finger_tip">
    <visual>
      <origin rpy="0 0 3.14159265359" xyz="0 0 0"/>
      <geometry>
        <mesh filename="package://rethink_ee_description/meshes/electric_gripper/fingers/basic_hard_tip.DAE"/>
      </geometry>
      <material name="darkgray">
        <color rgba=".2 .2 .2 1"/>
      </material>
    </visual>
    <collision>
      <origin rpy="0 0 3.14159265359" xyz="0 -0.0045 -0.015"/>
      <geometry>
        <box size="0.016 0.0065 0.037"/>
      </geometry>
    </collision>
    <inertial>
      <origin rpy="0 0 3.14159265359" xyz="0 0 0"/>
      <mass value="0.01"/>
      <inertia ixx="0.01" ixy="0" ixz="0" iyy="0.01" iyz="0" izz="0.01"/>
    </inertial>
  </link>
  <joint name="r_gripper_l_finger_tip_joint" type="fixed">
    <origin rpy="0 0 0" xyz="0.0 0.01725 0.075"/>
    <parent link="r_gripper_l_finger"/>
    <child link="r_gripper_l_finger_tip"/>
  </joint>
  <link name="r_gripper_r_finger">
    <visual>
      <origin rpy="0 0 -0.0" xyz="0 0 0"/>
      <geometry>
        <mesh filename="package://rethink_ee_description/meshes/electric_gripper/fingers/standard_narrow.DAE"/>
      </geometry>
      <material name="darkgray">
        <color rgba=".2 .2 .2 1"/>
      </material>
    </visual>
    <collision>
      <origin rpy="0 0 -0.0" xyz="0 -0.01725 0.04"/>
      <geometry>
        <box size="0.01 0.0135 0.075"/>
      </geometry>
    </collision>
    <collision>
      <origin rpy="0 0 -0.0" xyz="0.005 0.003 0.0083"/>
      <geometry>
        <box size="0.01 0.05 0.017"/>
      </geometry>
    </collision>
    <inertial>
      <origin rpy="0 0 -0.0" xyz="0 0 0"/>
      <mass value="0.02"/>
      <inertia ixx="0.01" ixy="0" ixz="0" iyy="0.01" iyz="0" izz="0.01"/>
    </inertial>
  </link>
  <gazebo reference="r_gripper_r_finger">
    <mu1>1000</mu1>
    <mu2>1000</mu2>
    <fdir1>0.0 0.0 1.0</fdir1>
    <kp>1e5</kp>
    <kd>1.0</kd>
  </gazebo>
  <link name="r_gripper_r_finger_tip">
    <visual>
      <origin rpy="0 0 0.0" xyz="0 0 0"/>
      <geometry>
        <mesh filename="package://rethink_ee_description/meshes/electric_gripper/fingers/basic_hard_tip.DAE"/>
      </geometry>
      <material name="darkgray">
        <color rgba=".2 .2 .2 1"/>
      </material>
    </visual>
    <collision>
      <origin rpy="0 0 0.0" xyz="0 0.0045 -0.015"/>
      <geometry>
        <box size="0.016 0.0065 0.037"/>
      </geometry>
    </collision>
    <inertial>
      <origin rpy="0 0 0.0" xyz="0 0 0"/>
      <mass value="0.01"/>
      <inertia ixx="0.01" ixy="0" ixz="0" iyy="0.01" iyz="0" izz="0.01"/>
    </inertial>
  </link>
  <joint name="r_gripper_r_finger_tip_joint" type="fixed">
    <origin rpy="0 0 0" xyz="0.0 -0.01725 0.075"/>
    <parent link="r_gripper_r_finger"/>
    <child link="r_gripper_r_finger_tip"/>
  </joint>
  <!-- Electric Gripper Base Joint -->
  <joint name="right_gripper_base" type="fixed">
    <origin rpy="0 0 0" xyz="0 0 0.025"/>
    <parent link="right_hand"/>
    <child link="right_gripper_base"/>
  </joint>
  <!-- Electric Gripper Tip joint -->
  <joint name="right_endpoint" type="fixed">
    <origin rpy="0 0 0" xyz="0 0 0.095"/>
    <parent link="right_gripper_base"/>
    <child link="right_gripper"/>
  </joint>
  <!-- Electric Gripper Tip link -->
  <link name="right_gripper">
    <inertial>
      <origin rpy="0 0 0" xyz="0 0 0"/>
      <mass value="0.0001"/>
      <inertia ixx="0" ixy="0" ixz="0" iyy="0" iyz="0" izz="0.0"/>
    </inertial>
  </link>
  <joint name="r_gripper_l_finger_joint" type="prismatic">
    <origin rpy="0 0 0" xyz="0.0 0.0 0.02"/>
    <axis xyz="0 1 0"/>
    <parent link="right_gripper_base"/>
    <child link="r_gripper_l_finger"/>
    <limit effort="20.0" lower="0.0" upper="0.020833" velocity="5.0"/>
    <dynamics damping="0.7" friction="0.0"/>
  </joint>
  <joint name="r_gripper_r_finger_joint" type="prismatic">
    <origin rpy="0 0 0" xyz="0.0 0.0 0.02"/>
    <axis xyz="0 1 0"/>
    <parent link="right_gripper_base"/>
    <child link="r_gripper_r_finger"/>
    <limit effort="20.0" lower="-0.020833" upper="0.0" velocity="5.0"/>
    <mimic joint="r_gripper_l_finger_joint" multiplier="-1.0"/>
    <dynamics damping="0.7" friction="0.0"/>
  </joint>
  <transmission name="gripper_right1">
    <type>transmission_interface/SimpleTransmission</type>
    <joint name="r_gripper_r_finger_joint">
      <hardwareInterface>hardware_interface/EffortJointInterface</hardwareInterface>
    </joint>
    <actuator name="gripper_r1_motor1">
      <hardwareInterface>hardware_interface/EffortJointInterface</hardwareInterface>
      <mechanicalReduction>1</mechanicalReduction>
    </actuator>
  </transmission>
  <transmission name="gripper_right2">
    <type>transmission_interface/SimpleTransmission</type>
    <joint name="r_gripper_l_finger_joint">
      <hardwareInterface>hardware_interface/EffortJointInterface</hardwareInterface>
    </joint>
    <actuator name="gripper_r1_motor2">
      <hardwareInterface>hardware_interface/EffortJointInterface</hardwareInterface>
      <mechanicalReduction>1</mechanicalReduction>
    </actuator>
  </transmission>
  <gazebo reference="r_gripper_r_finger_joint">
    <implicitSpringDamper>1</implicitSpringDamper>
  </gazebo>
  <gazebo reference="r_gripper_l_finger_joint">
    <implicitSpringDamper>1</implicitSpringDamper>
  </gazebo>
</robot>
